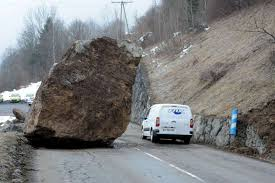car: (139, 98, 196, 144)
obstacle: (30, 36, 142, 160)
